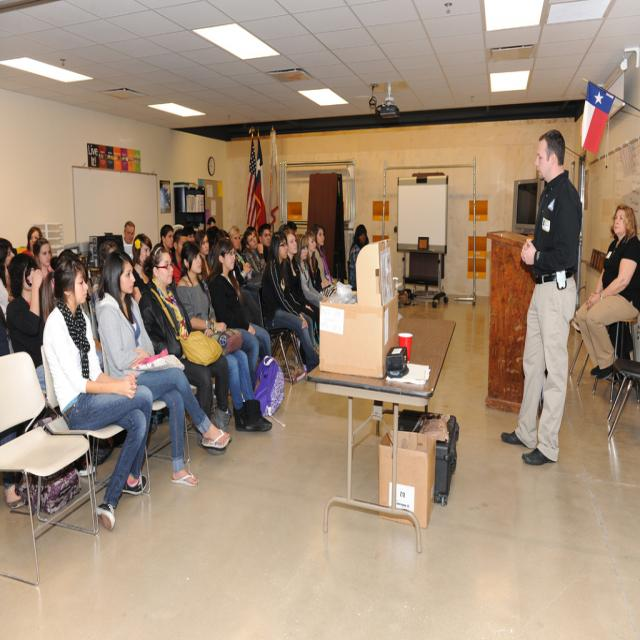chair: (0, 349, 104, 583), (603, 316, 640, 436)
desk: (317, 345, 448, 542)
person: (96, 246, 230, 490), (41, 248, 154, 532), (499, 130, 583, 468), (183, 240, 275, 426), (572, 205, 640, 385), (260, 225, 320, 380), (5, 249, 45, 373), (311, 224, 335, 289), (348, 224, 368, 287)
tv: (512, 178, 540, 231), (173, 183, 206, 224)
